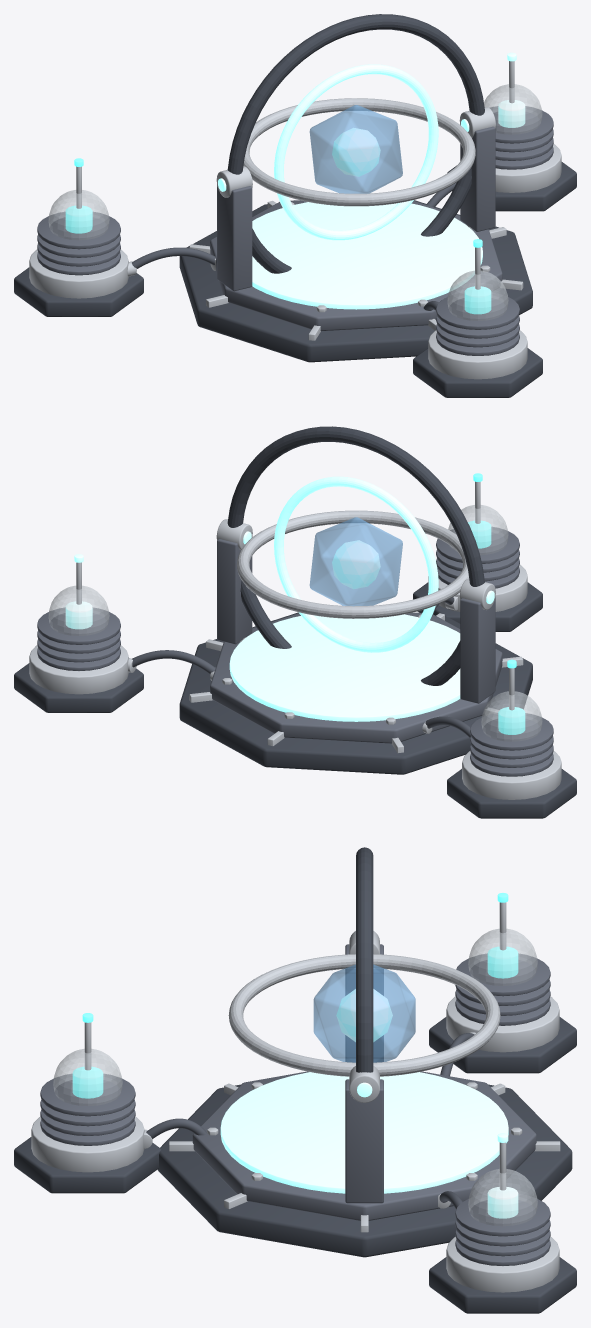
Rendered from agentforge-core.glb.
3 views of the same model, one above another, from view 1: azimuth 30°, elevation 25°; view 2: azimuth 150°, elevation 25°; view 3: azimuth 270°, elevation 25° (orthographic). The views are drawn at different scales.
Parts seen in each view (by area): view 1: AF_PlinthGlow, AF_PlinthBase, AF_SupportArch, Approval_Prism_Outer, Gimbal_Outer_Ring, AF_PlinthMid, Gimbal_Inner_Ring, AF_Pillar_-1.24, MCP_Base_2, MCP_Base_1, AF_Pillar_1.24, MCP_Collar_2 (+25 smaller); view 2: AF_PlinthGlow, AF_PlinthBase, AF_SupportArch, AF_PlinthMid, Approval_Prism_Outer, Gimbal_Outer_Ring, Gimbal_Inner_Ring, AF_Pillar_-1.24, MCP_Base_1, MCP_Base_0, AF_Pillar_1.24, MCP_Collar_1 (+23 smaller); view 3: AF_PlinthGlow, AF_PlinthBase, AF_PlinthMid, Gimbal_Outer_Ring, Approval_Prism_Outer, AF_Pillar_1.24, AF_SupportArch, MCP_Base_0, MCP_Base_2, MCP_Base_1, MCP_Collar_0, MCP_Collar_2 (+23 smaller).
Part boxes in pixels (box(x1,y1,x2,y2)): AF_PlinthGlow: box(252, 202, 482, 309); AF_PlinthBase: box(179, 200, 532, 362); AF_SupportArch: box(227, 14, 484, 273); Approval_Prism_Outer: box(309, 105, 402, 193); Gimbal_Outer_Ring: box(243, 98, 475, 206); AF_PlinthMid: box(210, 200, 502, 331); Gimbal_Inner_Ring: box(274, 64, 438, 240); AF_Pillar_-1.24: box(217, 184, 252, 291); MCP_Base_2: box(413, 348, 542, 397); MCP_Base_1: box(14, 267, 143, 316); AF_Pillar_1.24: box(460, 126, 495, 231); MCP_Collar_2: box(428, 330, 527, 379); AF_PlinthGlow: box(229, 614, 460, 721); AF_PlinthBase: box(179, 612, 532, 774); AF_SupportArch: box(227, 426, 484, 685); AF_PlinthMid: box(210, 612, 502, 743); Approval_Prism_Outer: box(309, 517, 402, 606); Gimbal_Outer_Ring: box(237, 510, 468, 618); Gimbal_Inner_Ring: box(274, 476, 438, 652); AF_Pillar_-1.24: box(460, 597, 495, 703); MCP_Base_1: box(447, 769, 576, 818); MCP_Base_0: box(14, 663, 143, 712); AF_Pillar_1.24: box(217, 539, 252, 644); MCP_Collar_1: box(462, 751, 561, 799); AF_PlinthGlow: box(220, 1072, 508, 1193); AF_PlinthBase: box(157, 1084, 572, 1257); AF_PlinthMid: box(192, 1071, 536, 1220); Gimbal_Outer_Ring: box(228, 954, 500, 1076); Approval_Prism_Outer: box(313, 964, 415, 1062); AF_Pillar_1.24: box(345, 1079, 383, 1203); AF_SupportArch: box(356, 847, 373, 1072); MCP_Base_0: box(429, 1257, 576, 1313); MCP_Base_2: box(14, 1137, 161, 1193); MCP_Base_1: box(429, 1017, 576, 1073); MCP_Collar_0: box(446, 1236, 559, 1292); MCP_Collar_2: box(31, 1116, 144, 1172).
Size of the model in its own units: 5.42 by 2.64 by 4.37.
